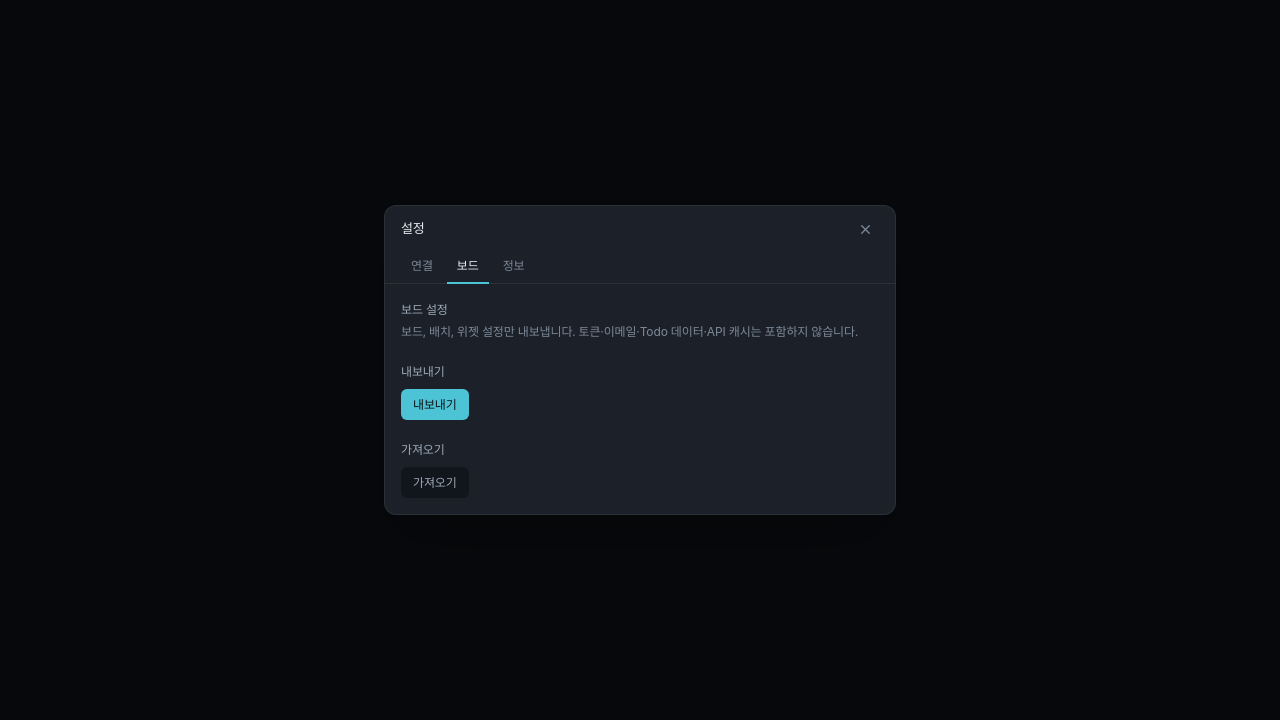
Scenario: SettingsModal board transfer › shows a flush error and does not apply the imported board
Click the button "가져오기": (435, 483) left=401, top=467, right=469, bottom=498
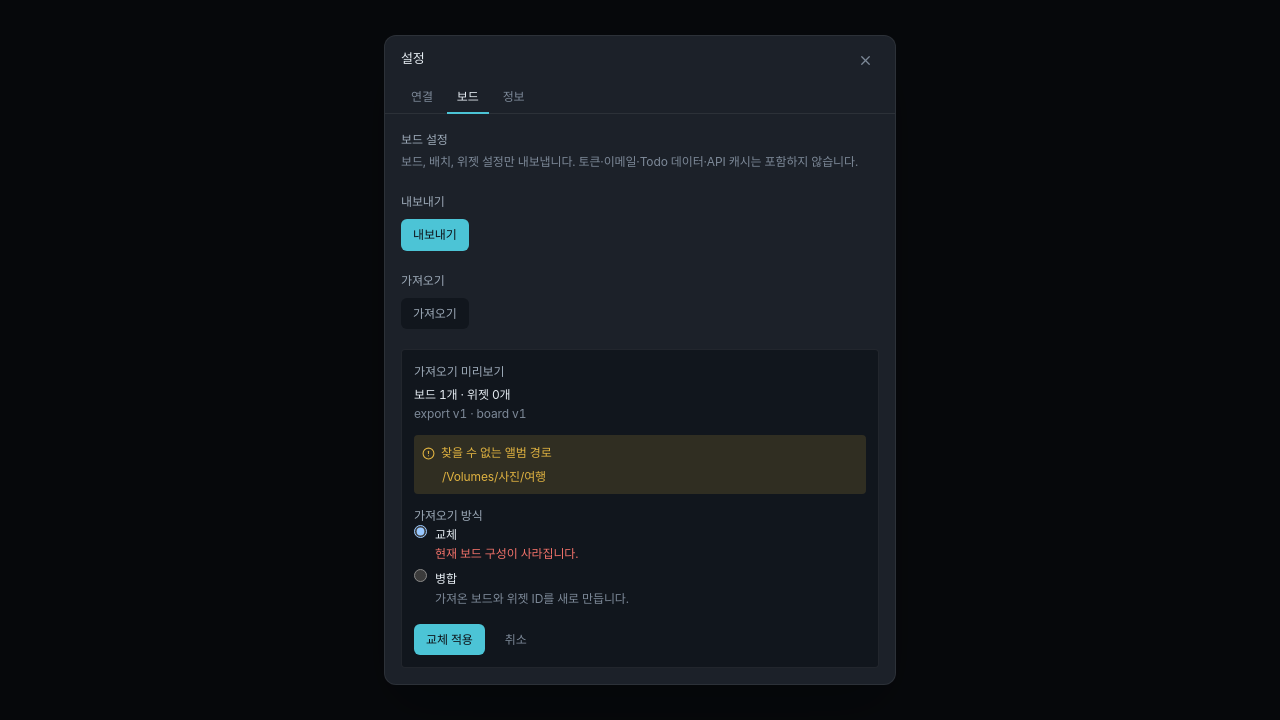
Click the button "교체 적용": (449, 639) left=414, top=624, right=485, bottom=655
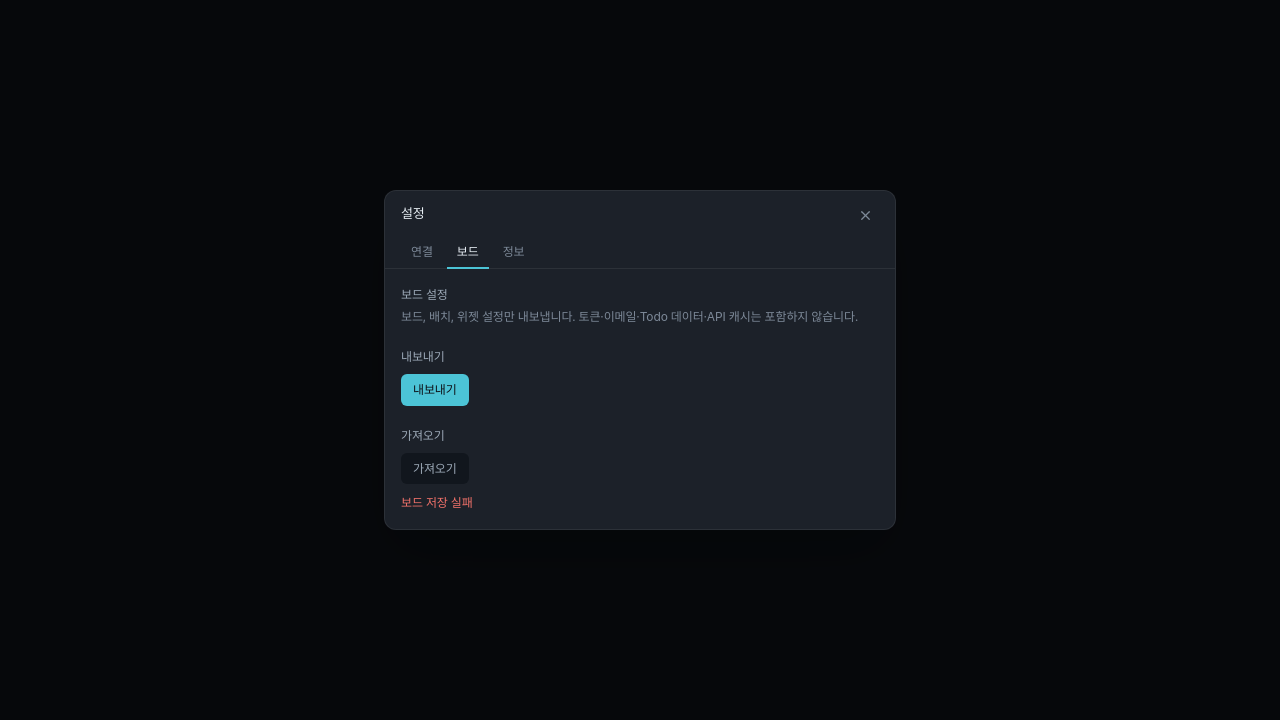
Expected: the text "보드 저장 실패" is shown, left=401, top=495, right=473, bottom=510
Expected: the button "적용" is gone
